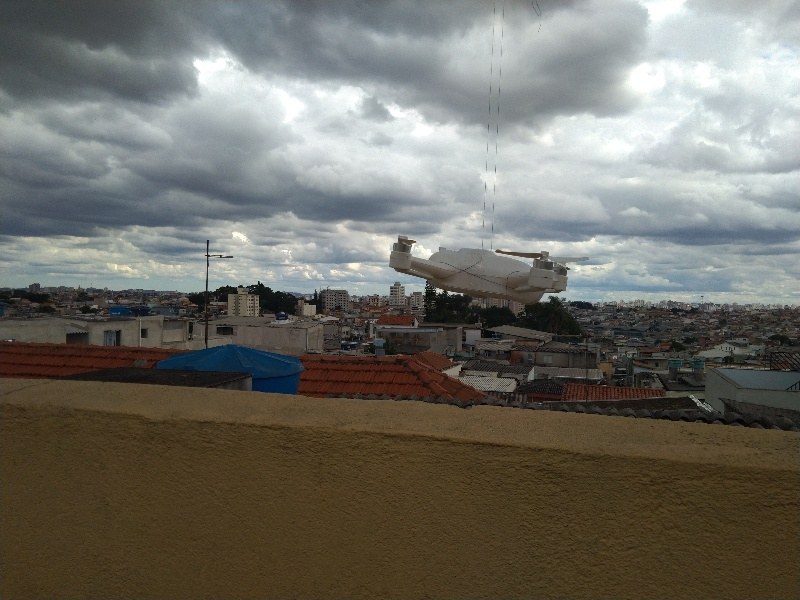drone: (379, 221, 592, 312)
